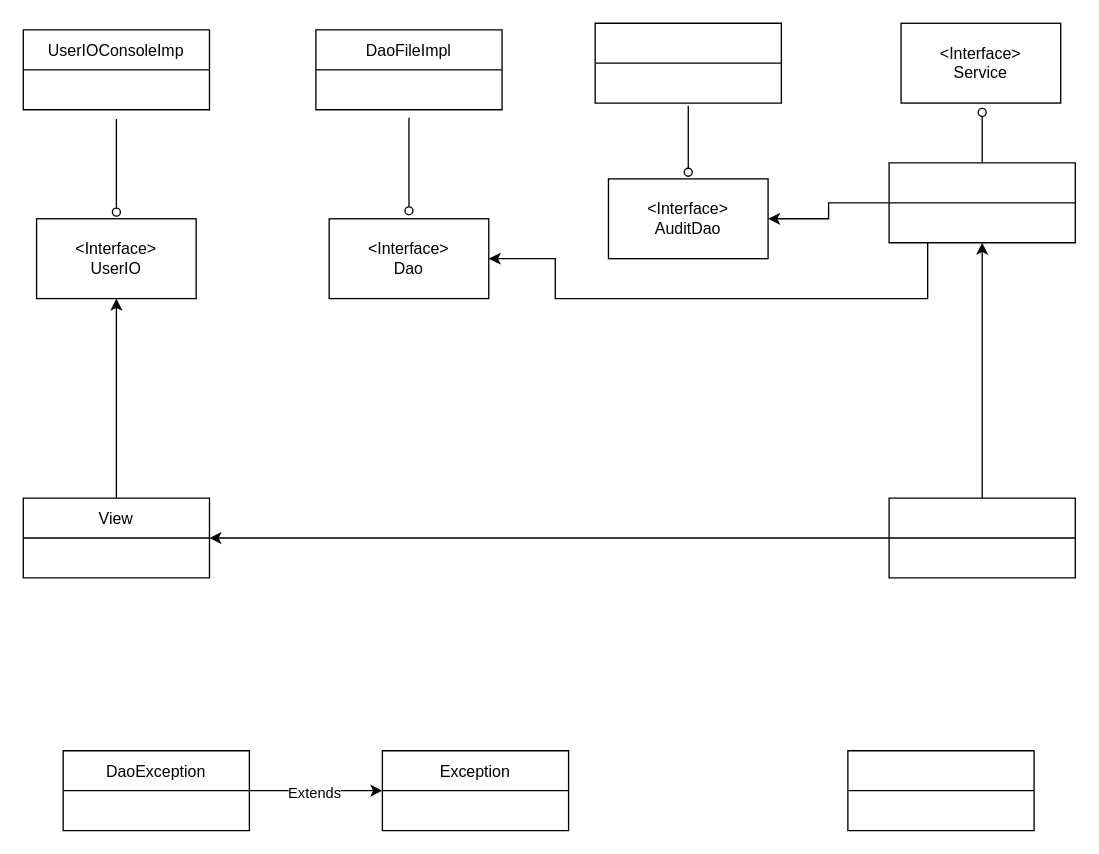
Image size: 1099x854. Some labels were removed from this diagram. Each missing label, with the centre of its shape:
AuditDaoImpl: pixel 687 62
Controller: pixel 981 537
Order (DTO): pixel 940 790
ServiceImpl: pixel 981 202
